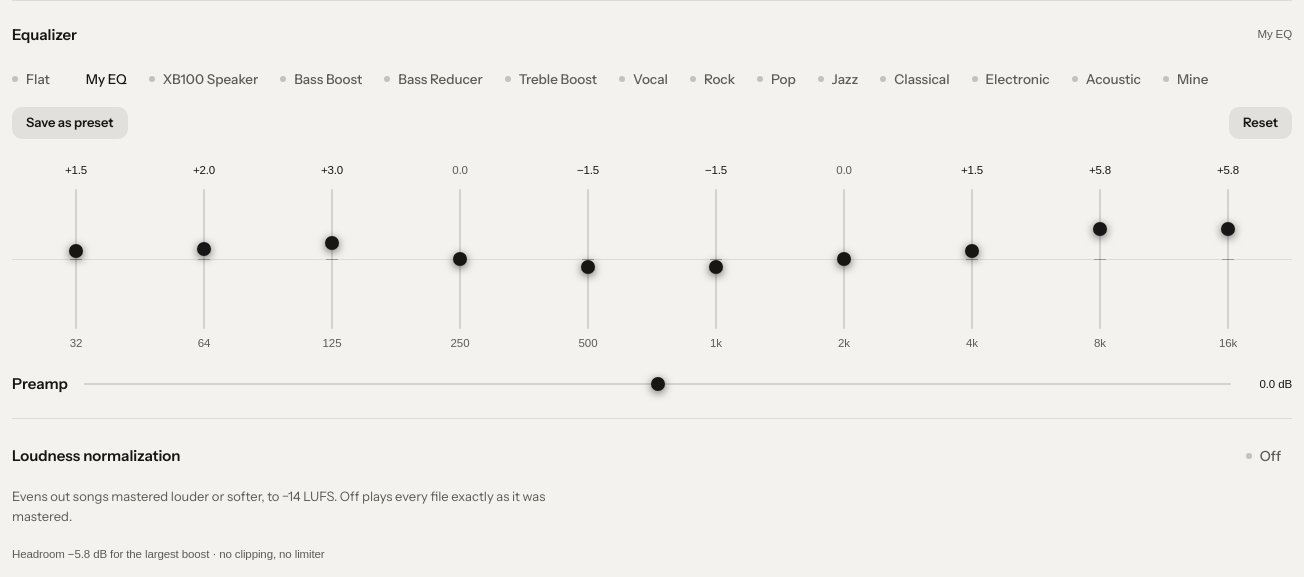
Test: SoundPanel › leaves a band as it was when what is typed isn't a number
Replace the text in the field named "1k Hz gain in dB" with "loud" at [716, 170], box [652, 157, 780, 183]
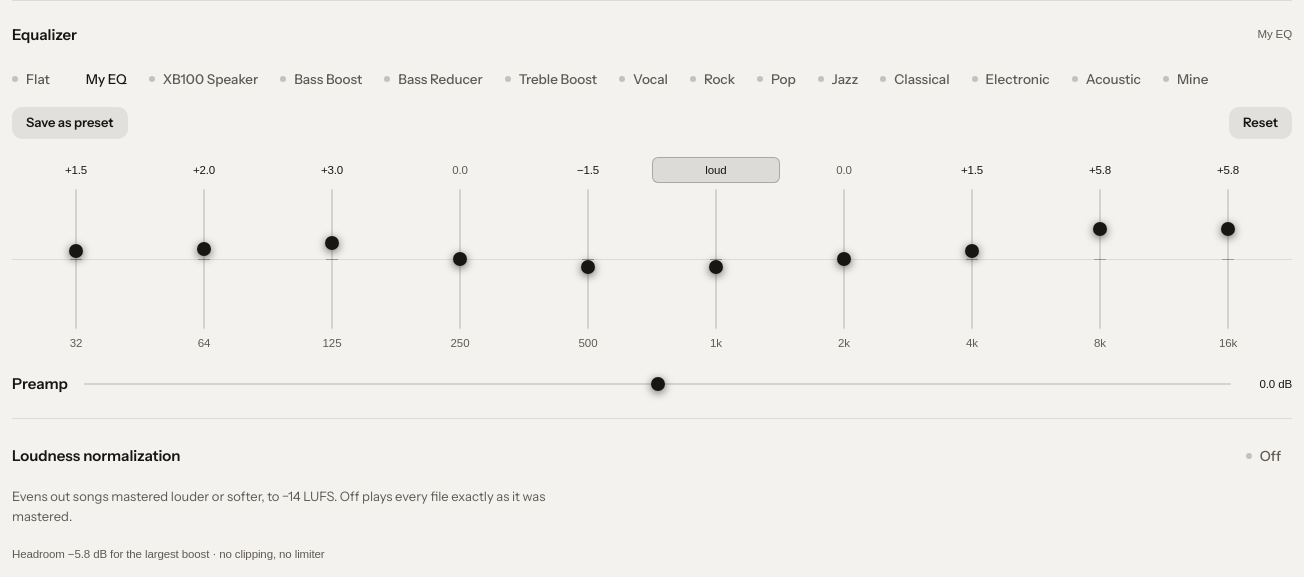
Leave the field named "1k Hz gain in dB", box [652, 157, 780, 183]
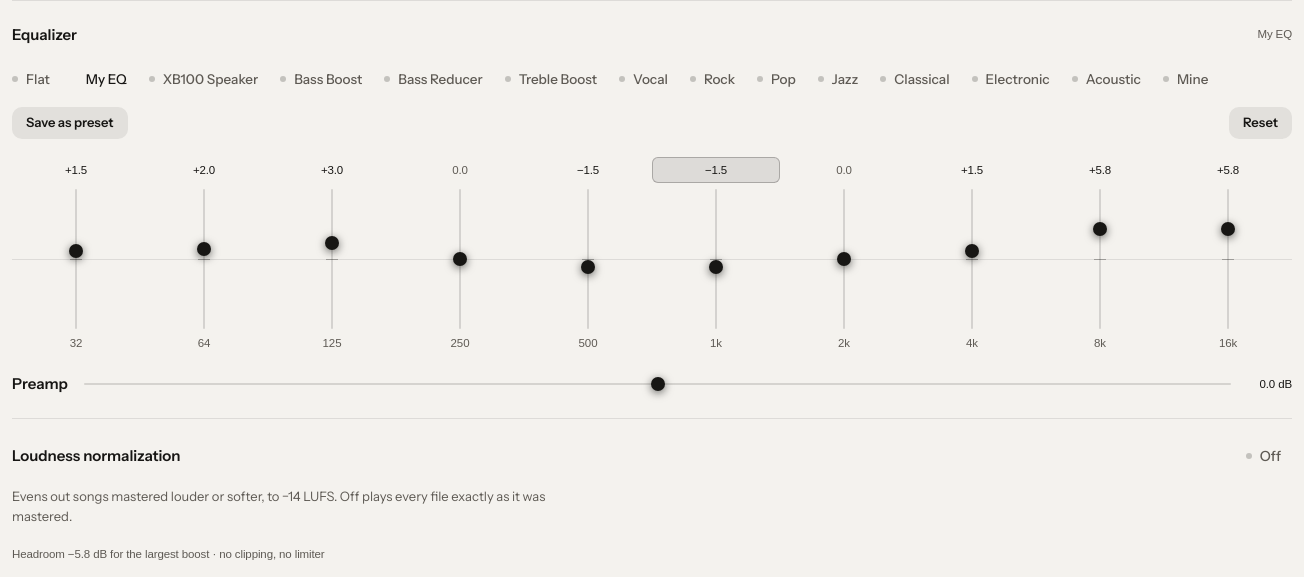
Check: the field named "1k Hz gain in dB" holds "−1.5", box [652, 157, 780, 183]
